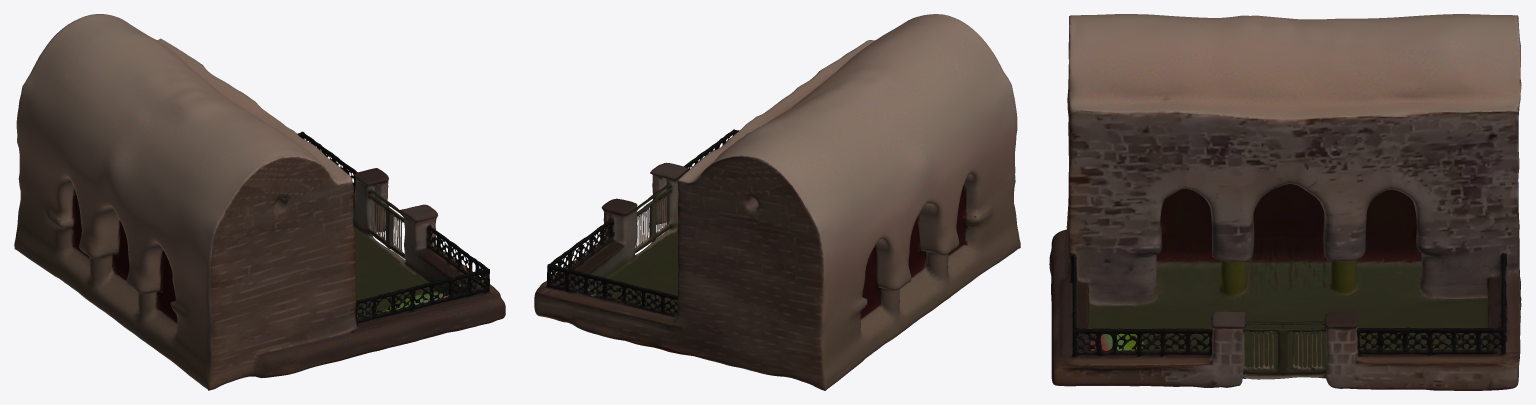
File: salman-al-farsi.glb
The picture shows the model from 3 angles, left to right: view 1: azimuth 30°, elevation 25°; view 2: azimuth 150°, elevation 25°; view 3: azimuth 270°, elevation 25°; orthographic projection. The views are drawn at different scales.
Visible parts, largest first — view 1: tripo_node_d2422b7d-7b85-46ac-aa09-c2af57f9682f; view 2: tripo_node_d2422b7d-7b85-46ac-aa09-c2af57f9682f; view 3: tripo_node_d2422b7d-7b85-46ac-aa09-c2af57f9682f.
Part boxes in pixels (x1=…): tripo_node_d2422b7d-7b85-46ac-aa09-c2af57f9682f: x1=14, y1=14, x2=505, y2=390; tripo_node_d2422b7d-7b85-46ac-aa09-c2af57f9682f: x1=534, y1=14, x2=1020, y2=390; tripo_node_d2422b7d-7b85-46ac-aa09-c2af57f9682f: x1=1049, y1=14, x2=1521, y2=390.
Bounding box in the file's own units: 0.8286 × 0.5741 × 0.9776.
1 material, 1 textured.
